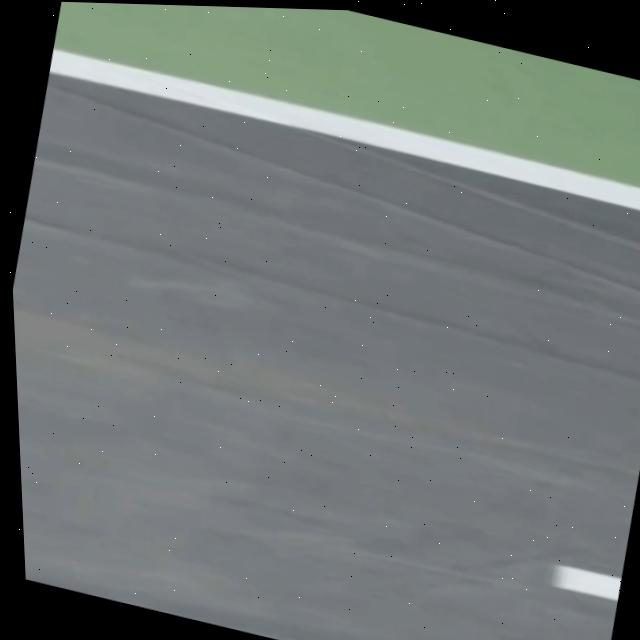center: (551, 564, 621, 600)
right: (49, 48, 640, 210)
